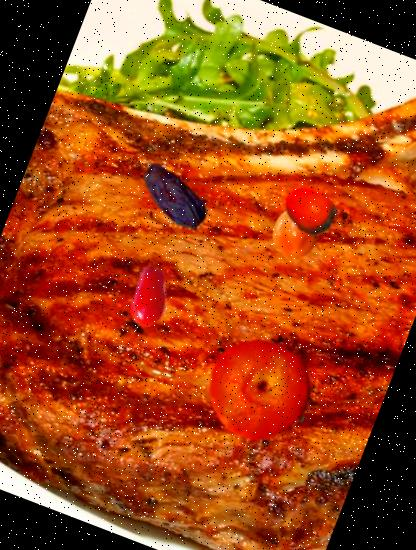Clementine: (192, 322, 330, 459)
Dates: (124, 148, 222, 246)
Kaki: (274, 176, 344, 247)
Pepper: (262, 200, 328, 266)
Tomato: (108, 258, 188, 338)
